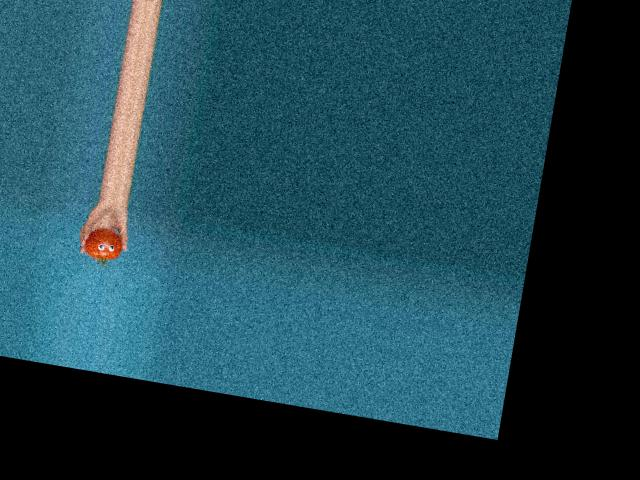tomato: (82, 224, 125, 263)
